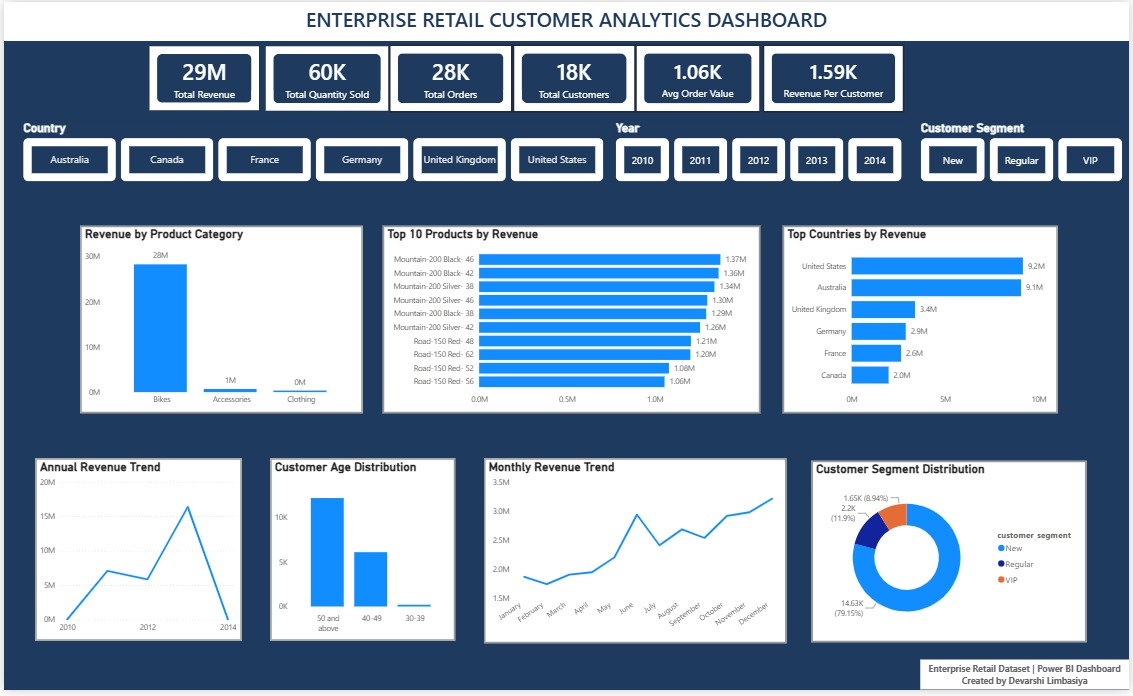

What the dashboard file says about the page in this screenshot:
{"tool":"powerbi","page":{"name":"Page 1","canvas":[1800,1100],"ordinal":0},"visuals":[{"type":"cardVisual","fields":{"Data":["datasets.Total Sales"]},"box":[232,70,177,104],"z":0},{"type":"cardVisual","fields":{"Data":["datasets.Total Quantity"]},"box":[418,70,198,105],"z":1000},{"type":"cardVisual","fields":{"Data":["datasets.Total Orders"]},"box":[616.2,68.8,197.5,108.8],"z":2000},{"type":"cardVisual","fields":{"Data":["datasets.Sales Per Customer"]},"box":[1213.8,68.8,226.2,108.8],"z":3000},{"type":"cardVisual","fields":{"Data":["datasets.Total Customers"]},"box":[813.8,68.8,196.2,108.8],"z":4000},{"type":"cardVisual","fields":{"Data":["datasets.Average Order Value"]},"box":[1010,68.8,200,108.8],"z":5000},{"type":"lineChart","title":"Annual Revenue Trend","fields":{"Category":["gold_fact_sales.order_date.Variation.Date Hierarchy.Year","gold_fact_sales.order_date.Variation.Date Hierarchy.Month"],"Y":["Sum(gold_fact_sales.sales_amount)"]},"box":[50,730,330,292],"z":6000},{"type":"clusteredBarChart","title":"Top Countries by Revenue","fields":{"Y":["Sum(gold_fact_sales.sales_amount)"],"Category":["gold_dim_customers.country"]},"box":[1246,358,440,300],"z":7000},{"type":"donutChart","title":"Customer Segment Distribution","fields":{"Category":["gold_report_customers.customer_segment"],"Y":["CountNonNull(gold_report_customers.customer_key)"]},"box":[1292,734,440,290],"z":8000},{"type":"clusteredColumnChart","title":"Revenue by Product Category","fields":{"Category":["gold_dim_products.category"],"Y":["Sum(gold_fact_sales.sales_amount)"]},"box":[122,358,452,300],"z":9000},{"type":"clusteredColumnChart","title":"Customer Age Distribution","fields":{"Category":["gold_report_customers.age_group"],"Y":["CountNonNull(gold_report_customers.customer_key)"]},"box":[426,730,296,292],"z":10000},{"type":"textbox","box":[0,0,1800,62],"z":11000},{"type":"advancedSlicerVisual","title":"Country","fields":{"Values":["gold_dim_customers.country"]},"box":[30,190,934,98],"z":12000},{"type":"advancedSlicerVisual","title":"Customer Segment","fields":{"Values":["gold_report_customers.customer_segment"]},"box":[1466,190,324,98],"z":13000},{"type":"advancedSlicerVisual","fields":{"Values":["gold_fact_sales.order_date.Variation.Date Hierarchy.Year"]},"box":[978,190,462,98],"z":14000},{"type":"clusteredBarChart","title":"Top 10 Products by Revenue","fields":{"Y":["Sum(gold_report_products.total_sales)"],"Category":["gold_report_products.product_name"]},"box":[606,358,604,300],"z":15000},{"type":"lineChart","title":"Monthly Revenue Trend","fields":{"Category":["gold_fact_sales.order_date.Variation.Date Hierarchy.Month"],"Y":["Sum(gold_fact_sales.sales_amount)"]},"box":[768,730,484,296],"z":16000},{"type":"textbox","box":[1466,1052,334,48],"z":17000}]}

Visuals, with their boxes in screenshot pixels (x1, y1, x2, y2), scaled from the page's 1800x1100 canvas onto the 1133x696 screenshot:
cardVisual - datasets.Total Sales: x1=146 y1=44 x2=257 y2=110
cardVisual - datasets.Total Quantity: x1=263 y1=44 x2=388 y2=111
cardVisual - datasets.Total Orders: x1=388 y1=44 x2=512 y2=112
cardVisual - datasets.Sales Per Customer: x1=764 y1=44 x2=906 y2=112
cardVisual - datasets.Total Customers: x1=512 y1=44 x2=636 y2=112
cardVisual - datasets.Average Order Value: x1=636 y1=44 x2=762 y2=112
"Annual Revenue Trend" lineChart: x1=31 y1=462 x2=239 y2=647
"Top Countries by Revenue" clusteredBarChart: x1=784 y1=227 x2=1061 y2=416
"Customer Segment Distribution" donutChart: x1=813 y1=464 x2=1090 y2=648
"Revenue by Product Category" clusteredColumnChart: x1=77 y1=227 x2=361 y2=416
"Customer Age Distribution" clusteredColumnChart: x1=268 y1=462 x2=454 y2=647
textbox: x1=0 y1=0 x2=1132 y2=39
"Country" advancedSlicerVisual: x1=19 y1=120 x2=607 y2=182
"Customer Segment" advancedSlicerVisual: x1=923 y1=120 x2=1127 y2=182
advancedSlicerVisual - gold_fact_sales.order_date.Variation.Date Hierarchy.Year: x1=616 y1=120 x2=906 y2=182
"Top 10 Products by Revenue" clusteredBarChart: x1=381 y1=227 x2=762 y2=416
"Monthly Revenue Trend" lineChart: x1=483 y1=462 x2=788 y2=649
textbox: x1=923 y1=666 x2=1132 y2=695
